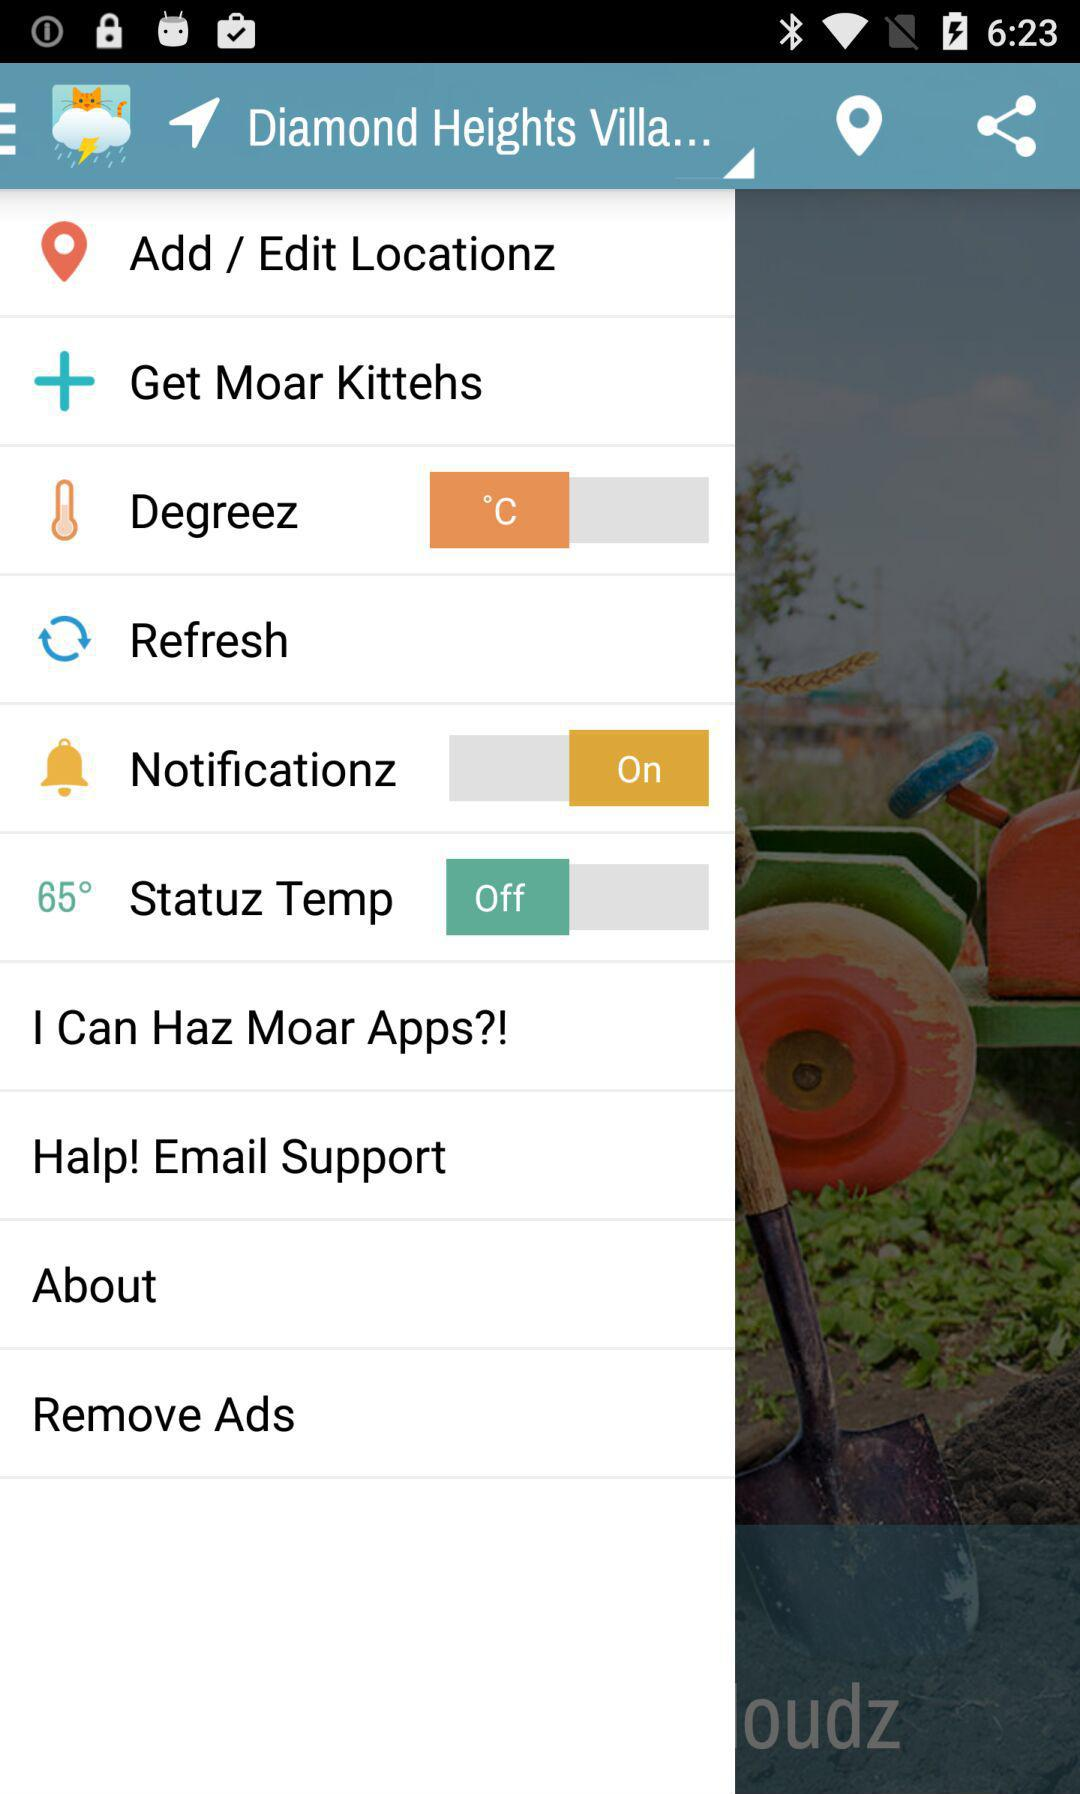Drawer: (1, 191, 735, 1794)
Icon: (976, 94, 1038, 159), (35, 350, 97, 413), (40, 737, 91, 800), (835, 95, 884, 159), (41, 220, 90, 284), (168, 97, 223, 150), (37, 615, 94, 664)
Image: (51, 83, 132, 172), (50, 478, 81, 543)
Switch: (430, 472, 711, 550), (448, 730, 710, 809), (446, 859, 711, 935)
Text: (247, 105, 715, 158), (35, 1007, 509, 1057), (35, 1134, 448, 1187), (129, 232, 559, 276), (131, 361, 483, 402), (129, 879, 395, 926), (132, 748, 398, 789), (35, 1393, 297, 1434), (132, 493, 300, 539), (132, 619, 290, 659), (31, 1263, 160, 1304), (38, 876, 94, 914)
Toolbar: (3, 65, 1080, 191)
UpperTaskBar: (1, 1, 1080, 64)
